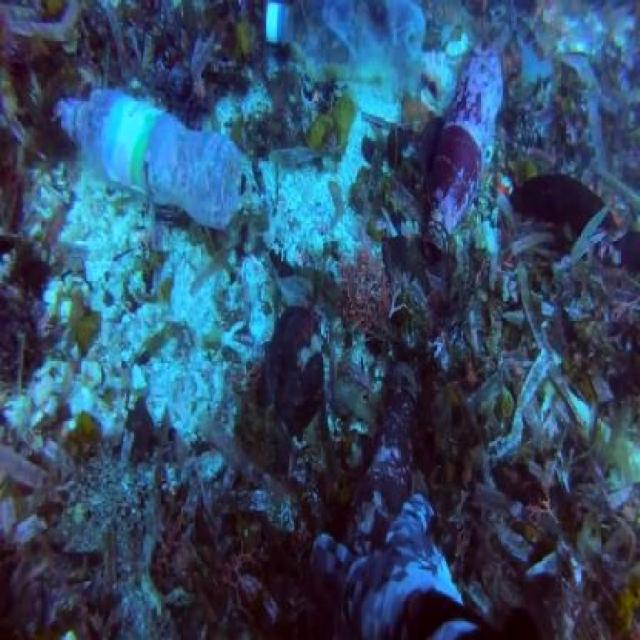Plastic: (39, 72, 267, 256)
